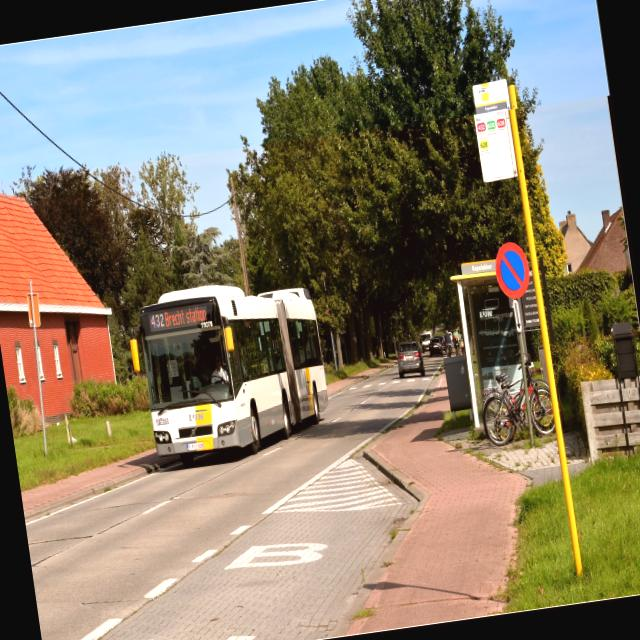bus-number: (150, 312, 165, 328)
